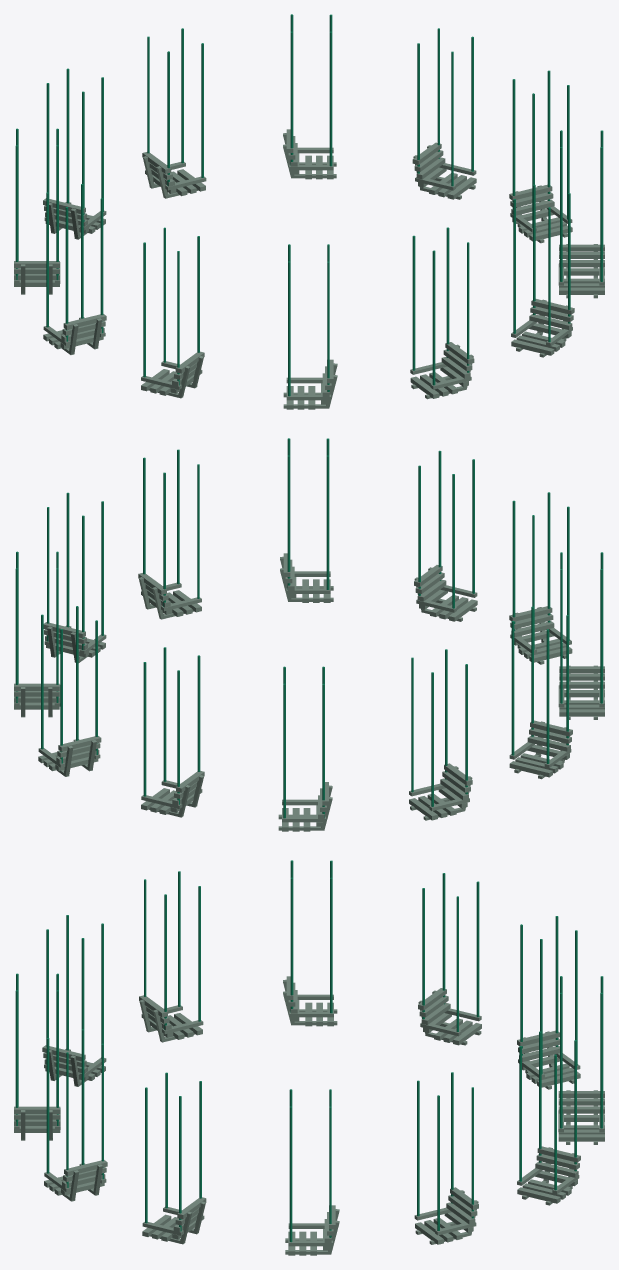
File: carrosselplaneta.obj
3 renders of one model, top to bottom at view 1: azimuth 30°, elevation 25°; view 2: azimuth 150°, elevation 25°; view 3: azimuth 270°, elevation 25°, orthographic.
Parts seen in each view (by area): view 1: carrosselplaneta:pasted__pCylinder20; view 2: carrosselplaneta:pasted__pCylinder20; view 3: carrosselplaneta:pasted__pCylinder20.
Boxes of the visible parts, bbox=[...] form: carrosselplaneta:pasted__pCylinder20: bbox=[14, 14, 604, 409]; carrosselplaneta:pasted__pCylinder20: bbox=[14, 438, 604, 831]; carrosselplaneta:pasted__pCylinder20: bbox=[14, 860, 604, 1255].
Bounding box in the file's own units: 12.74 × 3.57 × 12.8.
Materials: 17 (17 with a texture image).
